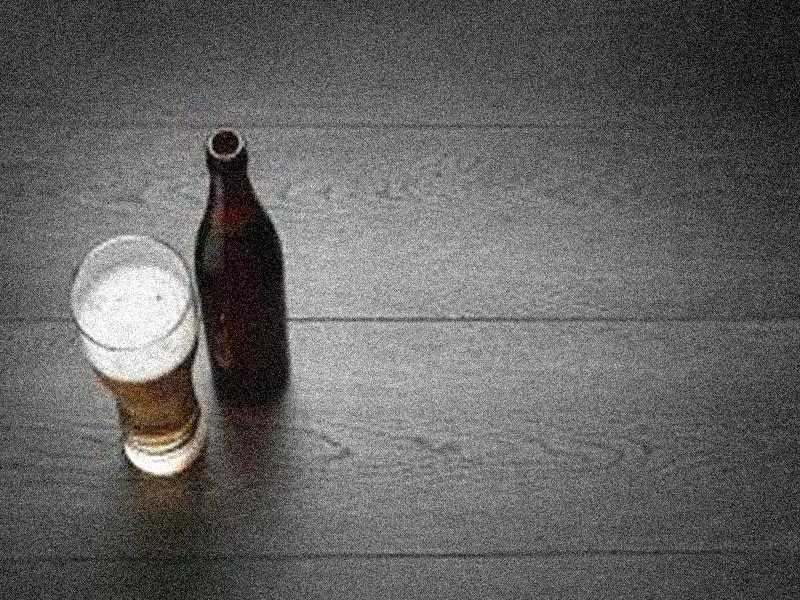Beer: (192, 125, 291, 413)
